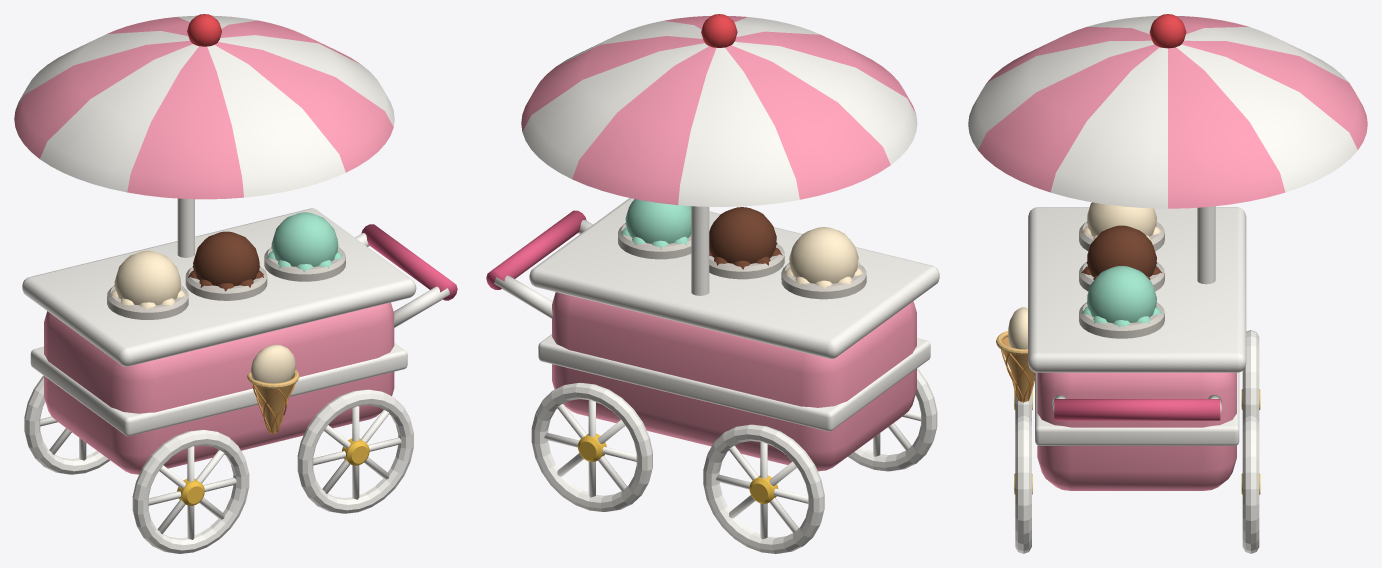
The model's file is ice_cart.fbx.
3 views of the same model, side by side, from view 1: azimuth 30°, elevation 25°; view 2: azimuth 150°, elevation 25°; view 3: azimuth 270°, elevation 25° (orthographic). The views are drawn at different scales.
Parts seen in each view (by area): view 1: ice_cart_White, ice_cart_Pink, ice_cart_Cream, ice_cart_Stone, ice_cart_Mint, ice_cart_Choc, ice_cart_PinkDark, ice_cart_Gold, ice_cart_Red, ice_cart_Waffle, ice_cart_Crust; view 2: ice_cart_White, ice_cart_Pink, ice_cart_Stone, ice_cart_Cream, ice_cart_Choc, ice_cart_Mint, ice_cart_PinkDark, ice_cart_Gold, ice_cart_Red; view 3: ice_cart_White, ice_cart_Pink, ice_cart_PinkDark, ice_cart_Mint, ice_cart_Choc, ice_cart_Cream, ice_cart_Stone, ice_cart_Red, ice_cart_Waffle.
Part boxes in pixels (x1,y1,x2,y2): ice_cart_White: (16, 15, 449, 553); ice_cart_Pink: (14, 17, 394, 474); ice_cart_Cream: (109, 250, 295, 383); ice_cart_Stone: (107, 247, 345, 319); ice_cart_Mint: (266, 212, 342, 272); ice_cart_Choc: (188, 231, 263, 291); ice_cart_PinkDark: (361, 224, 457, 300); ice_cart_Gold: (177, 438, 369, 505); ice_cart_Red: (187, 14, 221, 46); ice_cart_Waffle: (254, 375, 293, 433); ice_cart_Crust: (252, 383, 295, 434); ice_cart_White: (494, 17, 939, 553); ice_cart_Pink: (521, 16, 916, 471); ice_cart_Stone: (618, 224, 866, 299); ice_cart_Cream: (785, 227, 864, 289); ice_cart_Choc: (709, 207, 782, 269); ice_cart_Mint: (621, 199, 691, 249); ice_cart_PinkDark: (486, 210, 586, 289); ice_cart_Gold: (578, 433, 778, 503); ice_cart_Red: (701, 14, 737, 47); ice_cart_White: (968, 16, 1357, 553); ice_cart_Pink: (978, 16, 1367, 490); ice_cart_PinkDark: (1054, 399, 1220, 420); ice_cart_Mint: (1081, 266, 1162, 327); ice_cart_Choc: (1081, 225, 1162, 279); ice_cart_Cream: (1008, 202, 1162, 349); ice_cart_Stone: (1079, 222, 1164, 338); ice_cart_Red: (1149, 14, 1186, 48); ice_cart_Waffle: (1002, 337, 1034, 401).
Size of the model in its own units: 28.7 by 35.15 by 26.
